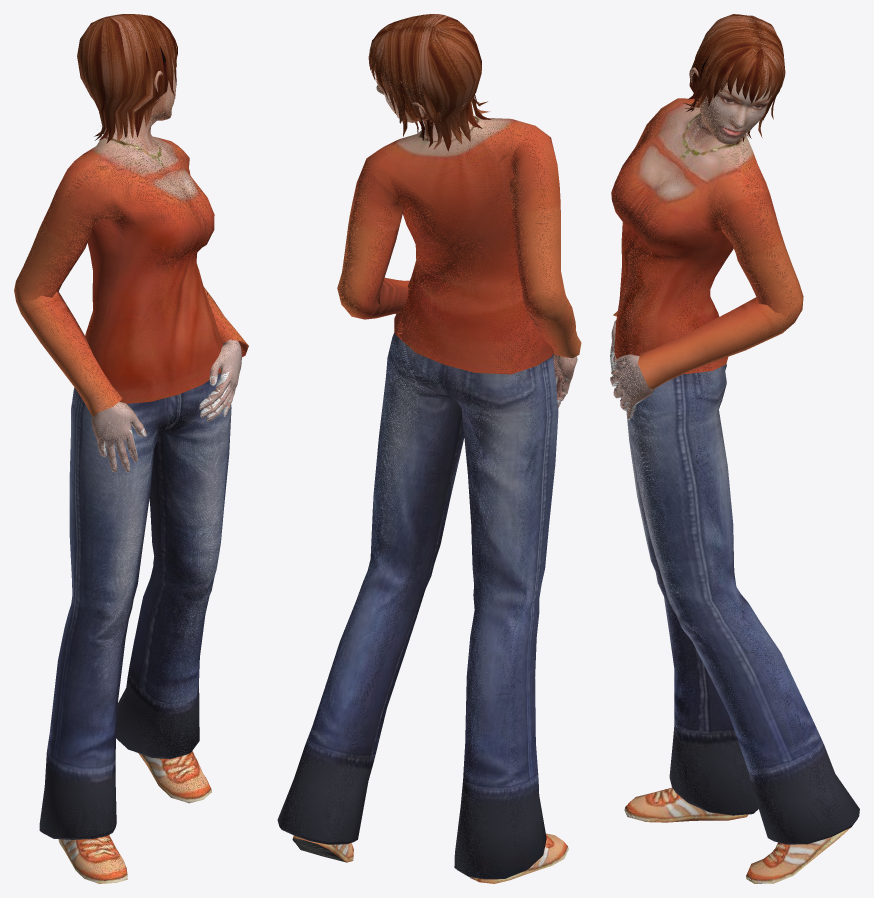
The model's file is female01.obj.
3 views of the same model, side by side, from view 1: azimuth 30°, elevation 25°; view 2: azimuth 150°, elevation 25°; view 3: azimuth 270°, elevation 25° (orthographic). The views are drawn at different scales.
Parts seen in each view (by area): view 1: 1, 4, 12, 24, 9, 23, 7, 5, 20; view 2: 1, 4, 12, 24, 23, 9; view 3: 1, 4, 12, 5, 24, 23, 7.
Part boxes in pixels (x1,y1,x2,y2): 1: (39, 372, 231, 839); 4: (14, 120, 248, 416); 12: (77, 14, 177, 143); 24: (58, 835, 127, 883); 9: (91, 401, 146, 472); 23: (138, 751, 211, 803); 7: (199, 339, 241, 421); 5: (127, 49, 176, 126); 20: (128, 50, 152, 138); 1: (277, 333, 558, 879); 4: (337, 116, 581, 374); 12: (368, 14, 491, 151); 24: (470, 833, 568, 883); 23: (292, 835, 353, 862); 9: (553, 353, 577, 408); 1: (620, 364, 859, 844); 4: (611, 98, 803, 389); 12: (683, 14, 785, 141); 5: (689, 67, 778, 144); 24: (624, 787, 748, 822); 23: (746, 827, 850, 883); 7: (610, 354, 654, 419).
Bounding box in the file's own units: 46.6 × 166 × 45.5.
4 materials, 3 textured.
